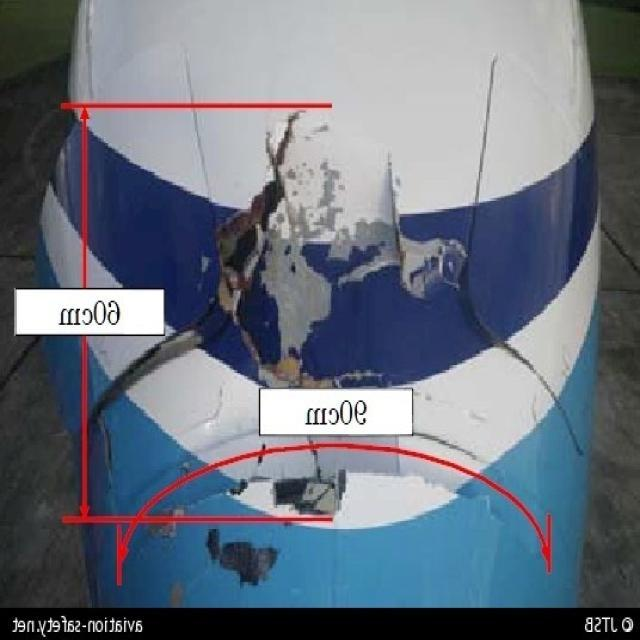crack: (97, 112, 307, 435), (458, 46, 584, 463), (384, 149, 411, 295), (98, 413, 122, 479)
